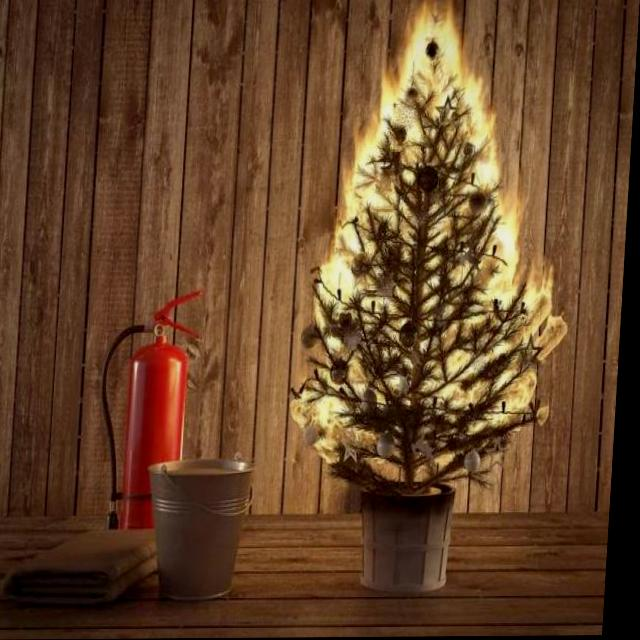FireExtinguisher: (99, 283, 210, 534)
